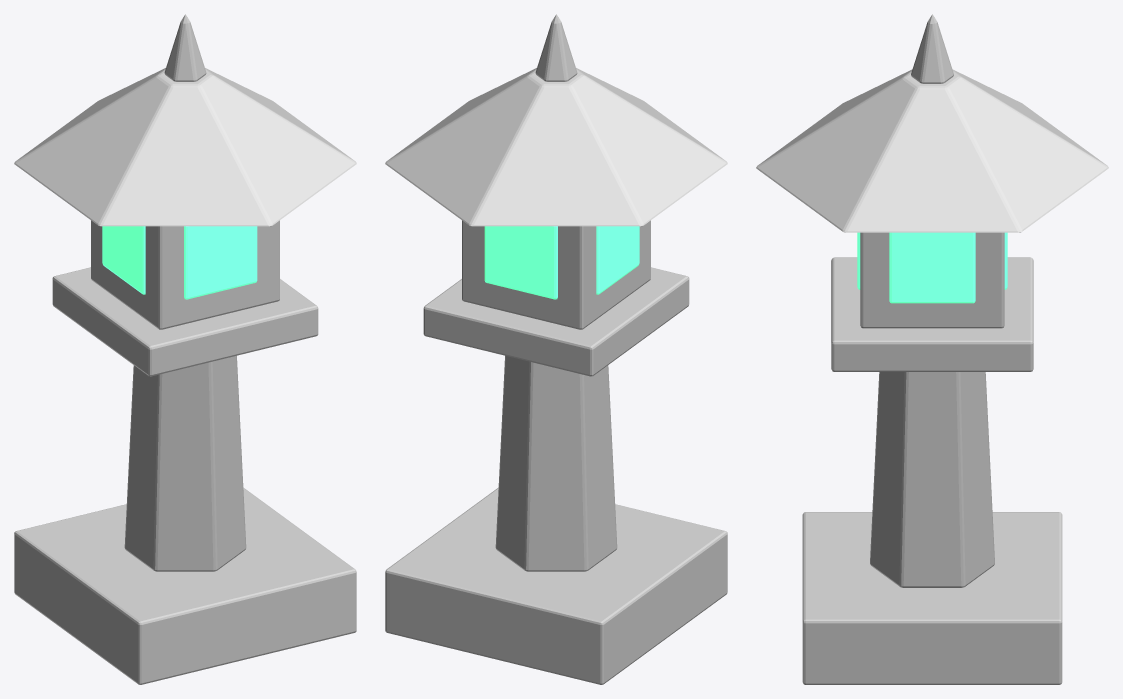
The model's file is china_lantern.fbx.
The picture shows the model from 3 angles, left to right: view 1: azimuth 30°, elevation 25°; view 2: azimuth 150°, elevation 25°; view 3: azimuth 270°, elevation 25°; orthographic projection. The views are drawn at different scales.
Visible parts, largest first — view 1: china_lantern; view 2: china_lantern; view 3: china_lantern.
Part boxes in pixels (bbox=[...]): china_lantern: bbox=[14, 14, 356, 684]; china_lantern: bbox=[385, 14, 727, 684]; china_lantern: bbox=[756, 14, 1108, 684].
Bounding box in the file's own units: 1.06 × 2.36 × 1.22.
